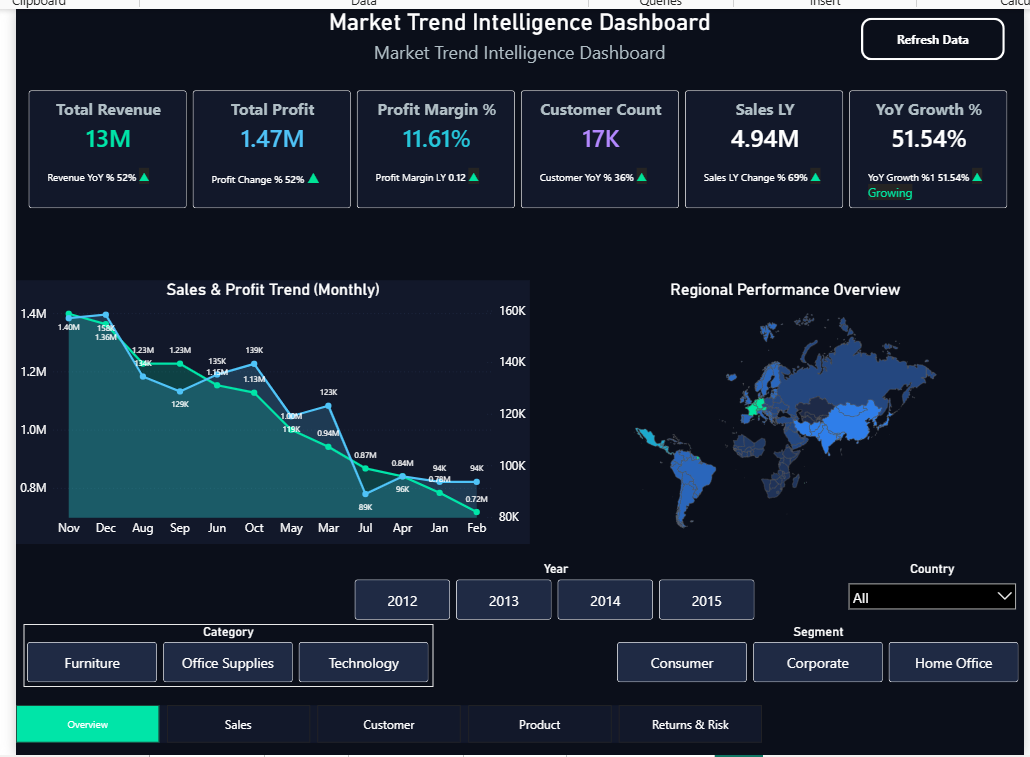

Layout of this report page (visuals, bound fields, positions):
{"tool":"powerbi","page":{"name":"Overview","canvas":[1350,1000],"ordinal":0},"visuals":[{"type":"textbox","title":"Market Trend Intelligence Dashboard","box":[0,0,1350.5,78.8],"z":0},{"type":"cardVisual","fields":{"Data":["Orders.Total Revenue","Orders.Total Profit","Orders.Profit Margin %","Orders.Customer Count","Orders.Sales 2Y Ago","Orders.YoY Growth %"]},"box":[0,92.2,1350.5,192.7],"z":1000},{"type":"lineChart","title":"Sales & Profit Trend (Monthly)","fields":{"Category":["Date.Month"],"Y":["Sum(Orders.Sales)"],"Y2":["Sum(Orders.Profit)"]},"box":[0,363.6,688.7,353.6],"z":2000},{"type":"slicer","title":"Country","fields":{"Values":["Orders.Country"]},"box":[1105.9,740.6,244.6,83.8],"z":4000},{"type":"advancedSlicerVisual","fields":{"Values":["Date.Year"]},"box":[449.1,740.6,549.6,83.8],"z":5000},{"type":"advancedSlicerVisual","fields":{"Values":["Orders.Category"]},"box":[10.1,824.4,549.6,83.8],"z":6000},{"type":"advancedSlicerVisual","fields":{"Values":["Orders.Segment"]},"box":[800.9,824.4,549.6,83.8],"z":7000},{"type":"actionButton","box":[1132.7,11.7,192.7,57],"z":8000},{"type":"pageNavigator","box":[0,932.7,1000,50],"z":9000},{"type":"shapeMap","title":"Regional Performance Overview","fields":{"Category":["Orders.Region"],"Value":["Sum(Orders.Sales)"]},"box":[712.1,363.6,638.4,353.6],"z":10000}]}

Visuals, with their boxes on the page's 1350x1000 design canvas (x1, y1, x2, y2). These are canvas units, not pixel positions in the 1030x757 screenshot, which may show the page scaled, cropped or inside an application window:
"Market Trend Intelligence Dashboard" textbox: BBox(0, 0, 1350, 79)
cardVisual - Orders.Total Revenue x Orders.Total Profit: BBox(0, 92, 1350, 285)
"Sales & Profit Trend (Monthly)" lineChart: BBox(0, 364, 689, 717)
"Country" slicer: BBox(1106, 741, 1350, 824)
advancedSlicerVisual - Date.Year: BBox(449, 741, 999, 824)
advancedSlicerVisual - Orders.Category: BBox(10, 824, 560, 908)
advancedSlicerVisual - Orders.Segment: BBox(801, 824, 1350, 908)
actionButton: BBox(1133, 12, 1325, 69)
pageNavigator: BBox(0, 933, 1000, 983)
"Regional Performance Overview" shapeMap: BBox(712, 364, 1350, 717)
